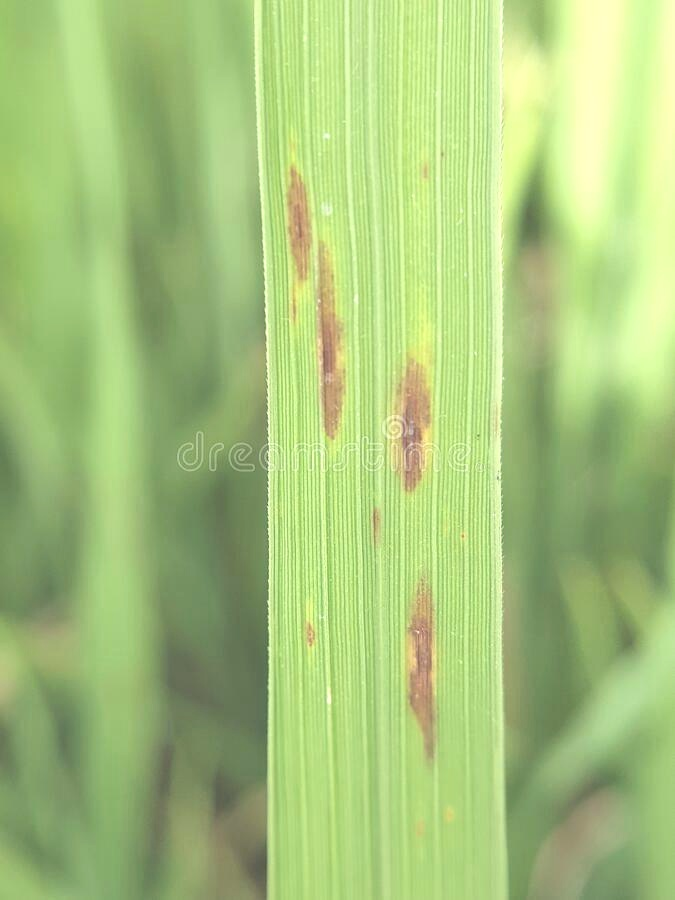Bacterial_Leaf_Blight: (399, 558, 460, 780), (380, 336, 451, 503), (309, 235, 354, 450), (282, 155, 328, 299), (294, 590, 332, 663)
